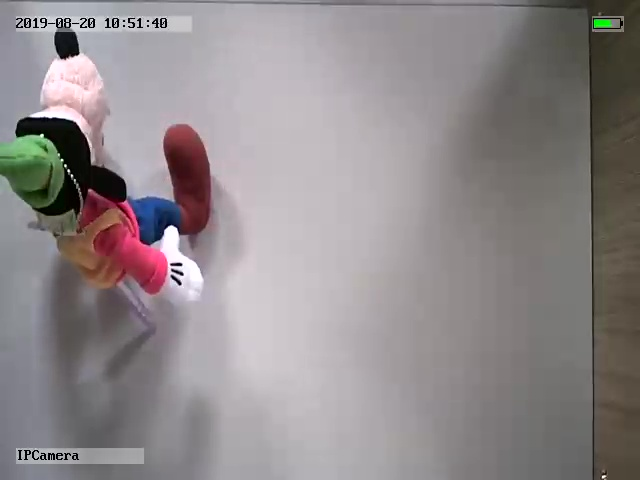goofy: (1, 26, 211, 308)
